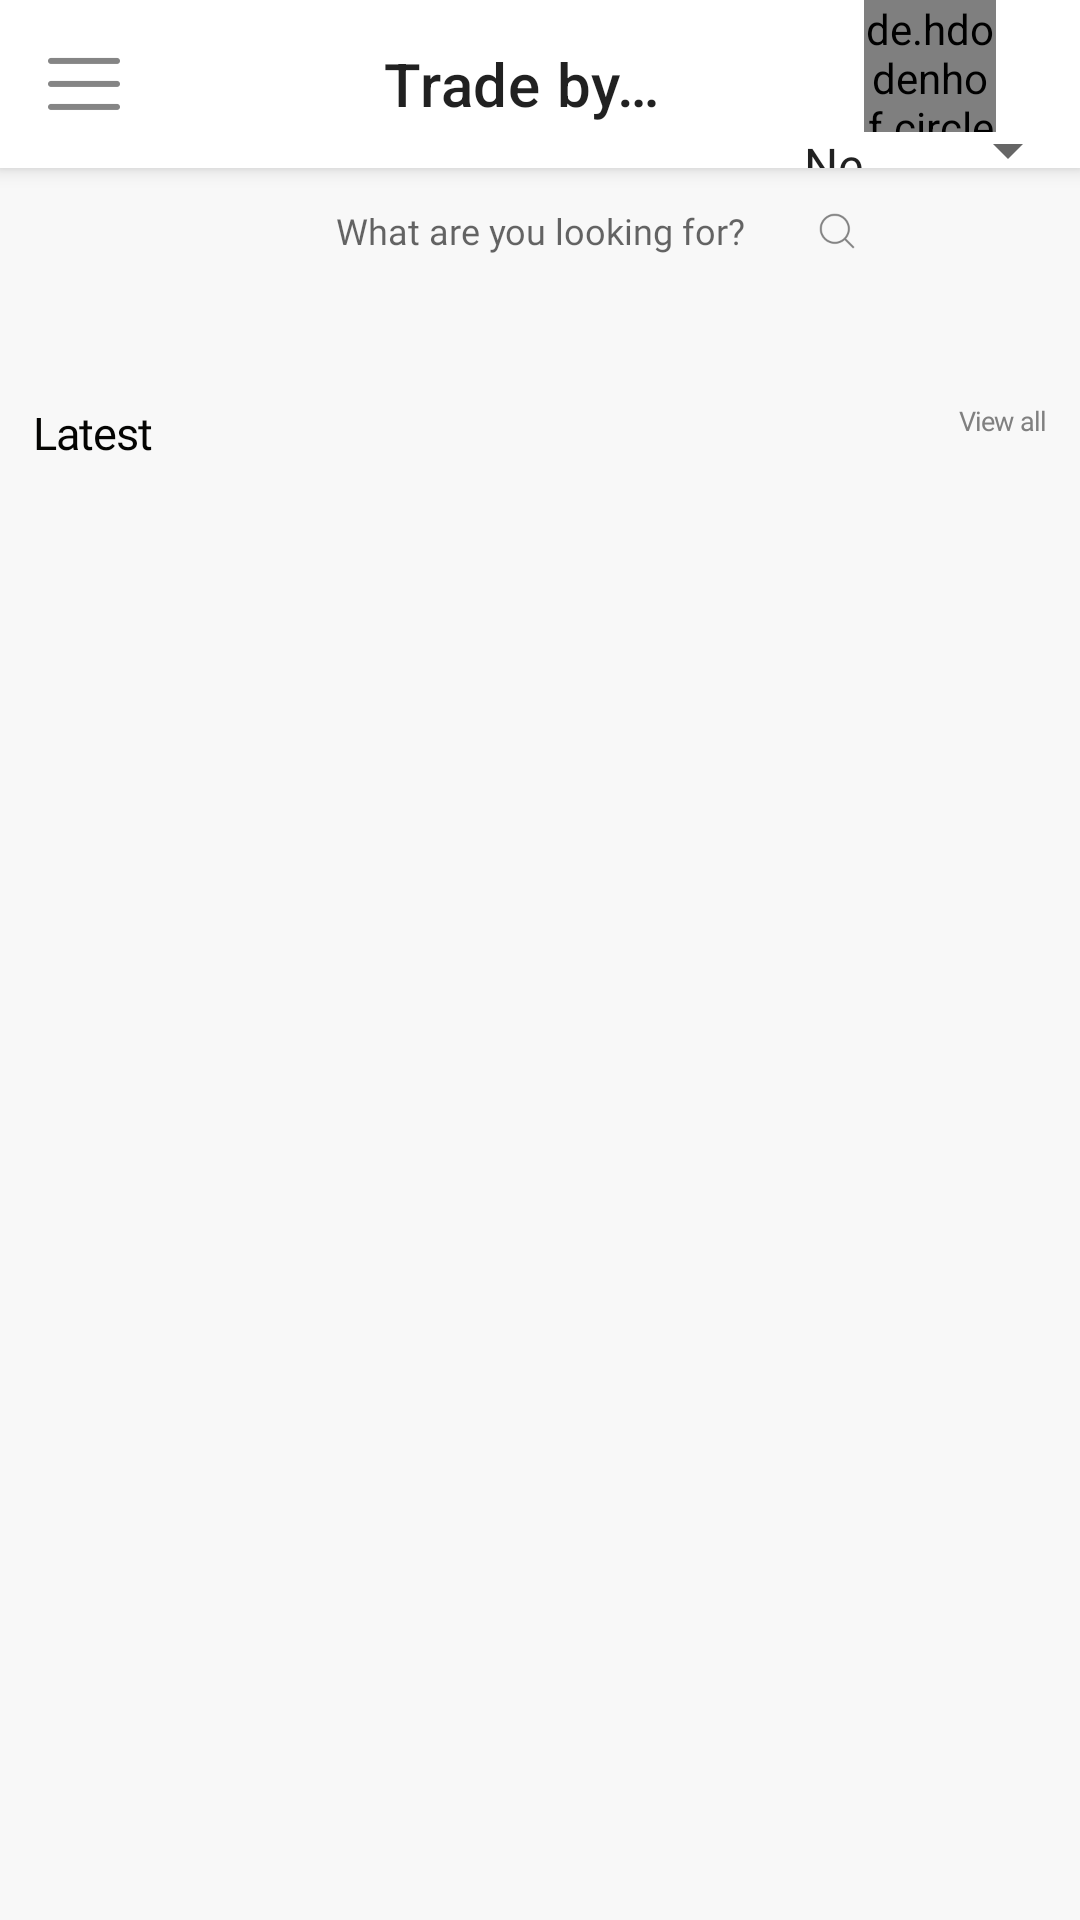

Icon click points for this 1080 × 1920 phone screenshot, format (x,y):
search: (837,231)
